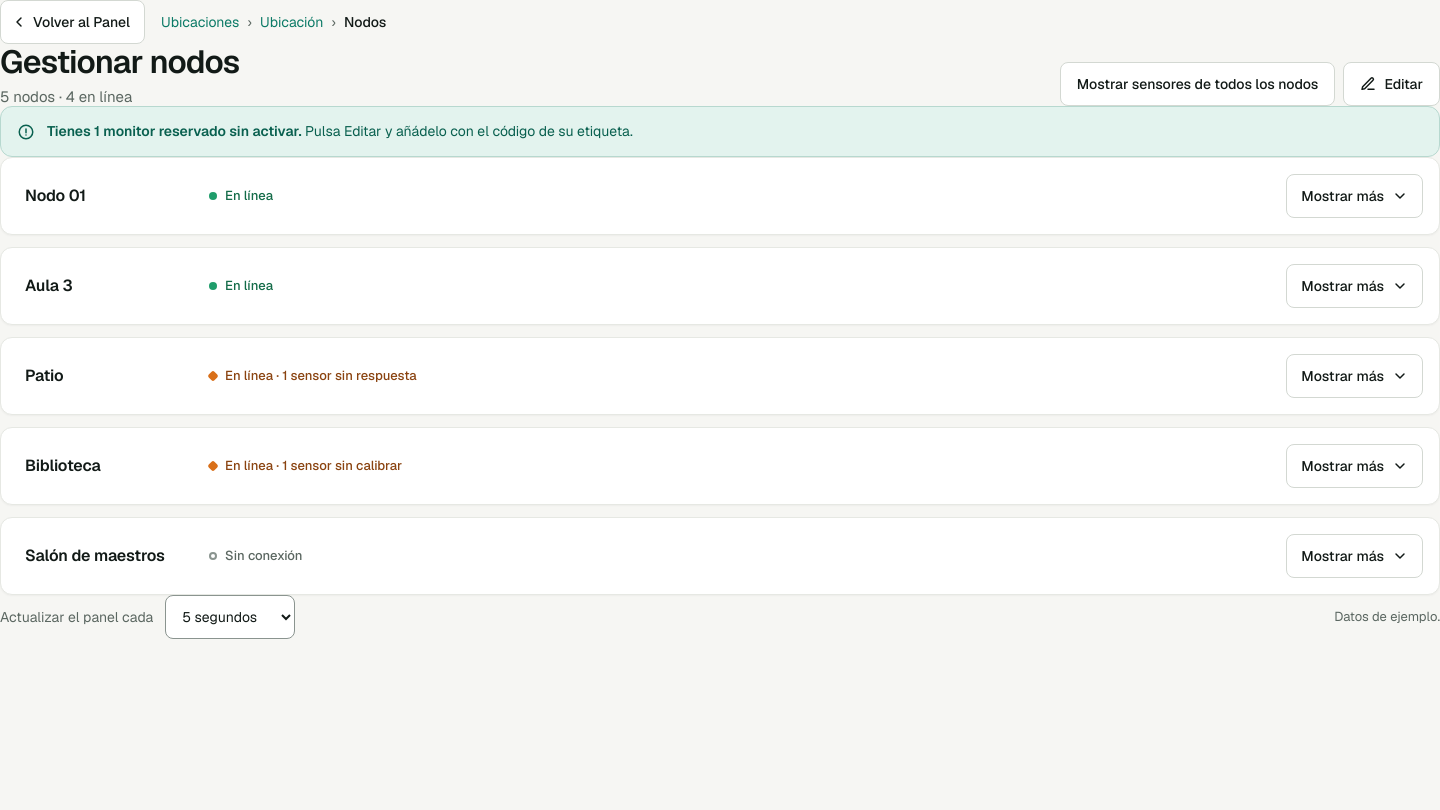
it: Nodos › normaliza el código y el nombre al añadir un nodo
The width and height of the screenshot is (1440, 810).
Expected: the text "Patio" is shown, [25,365,63,386]
Click the button "Editar".
click(1392, 84)  # box [1343,62,1439,106]
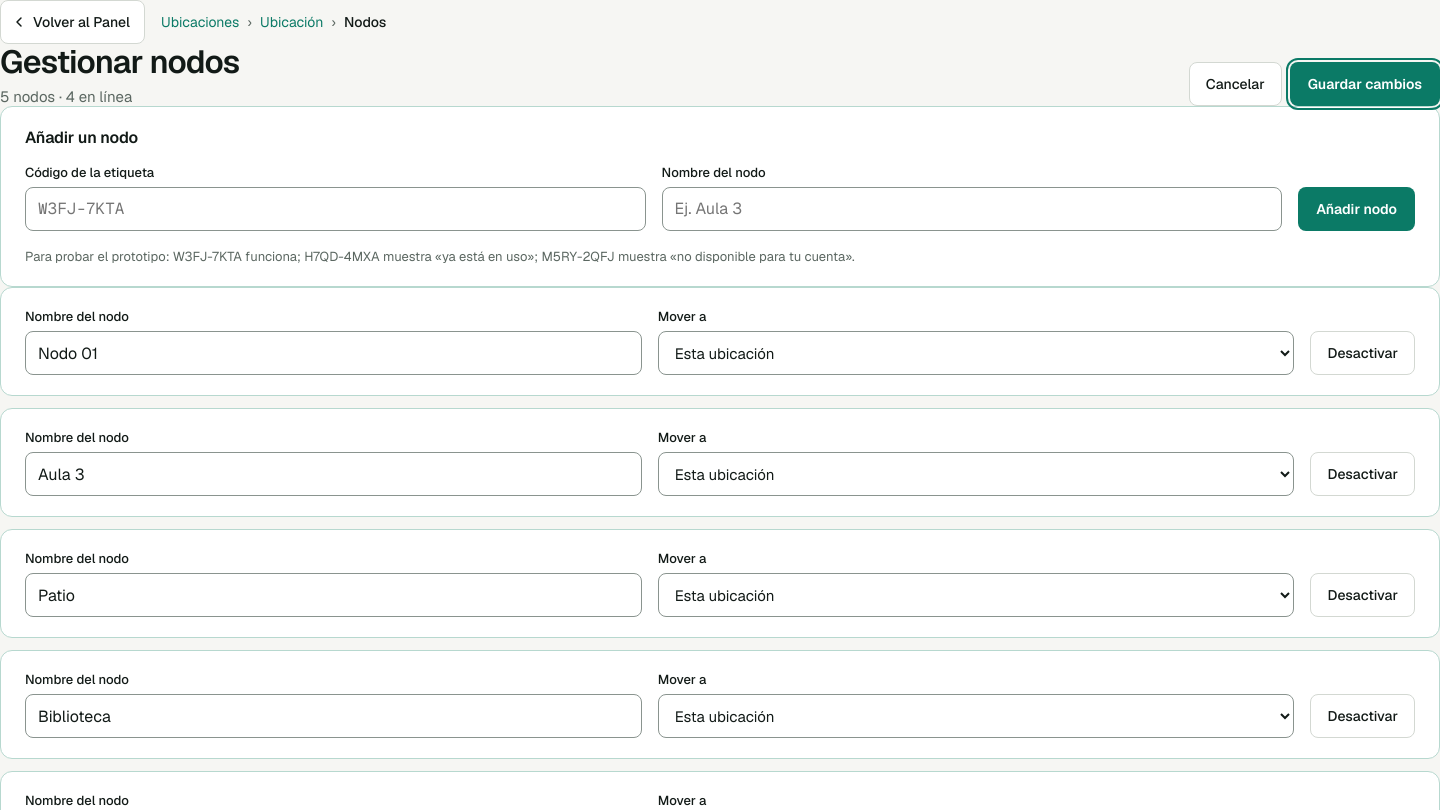
Type " w3fj 7kta " into the field labelled "Código de la etiqueta".
click(335, 209); type(" w3fj 7kta ")  # box [25,187,646,231]
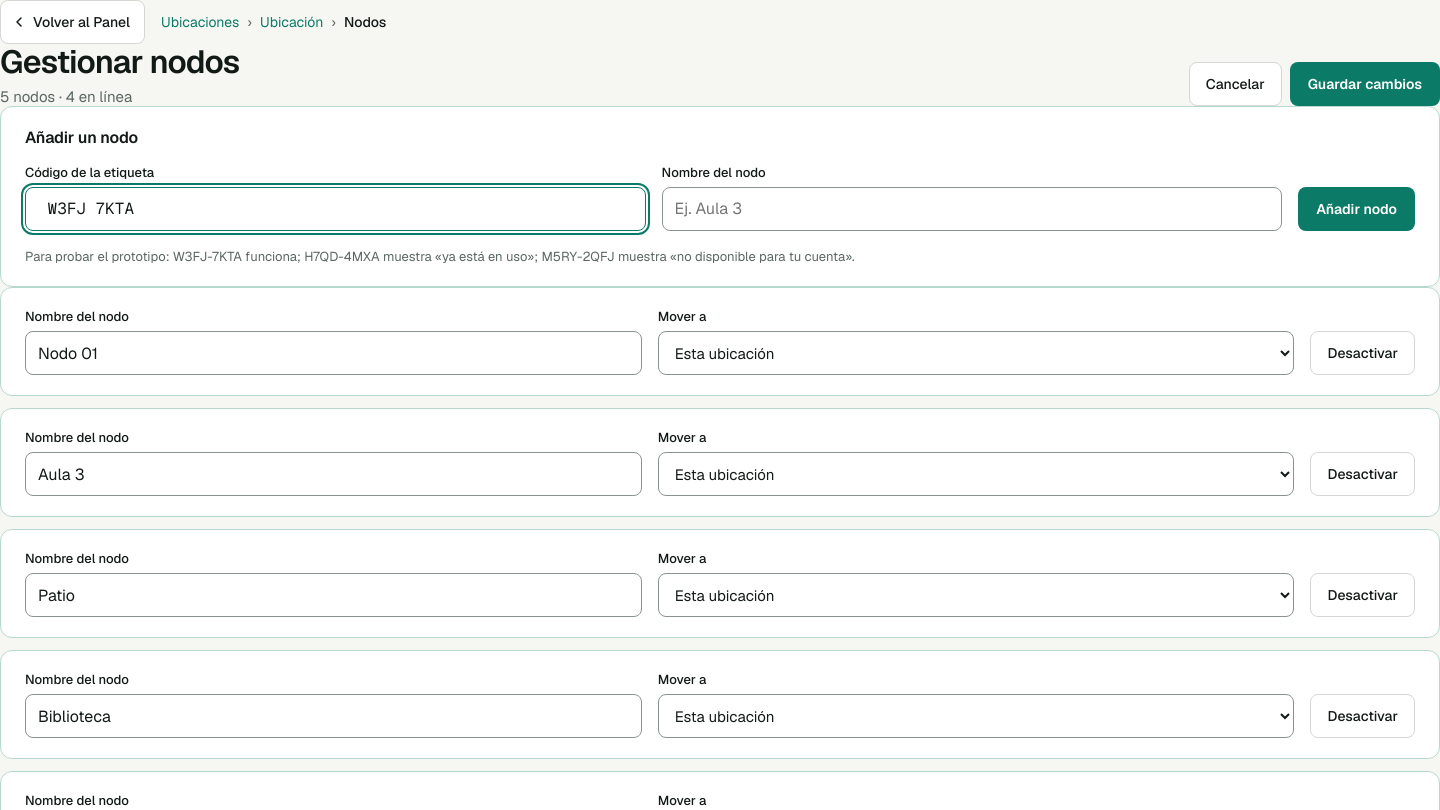
Type "  Laboratorio  " into the 1st field labelled "Nombre del nodo".
click(972, 209); type("  Laboratorio  ")  # box [662,187,1282,231]
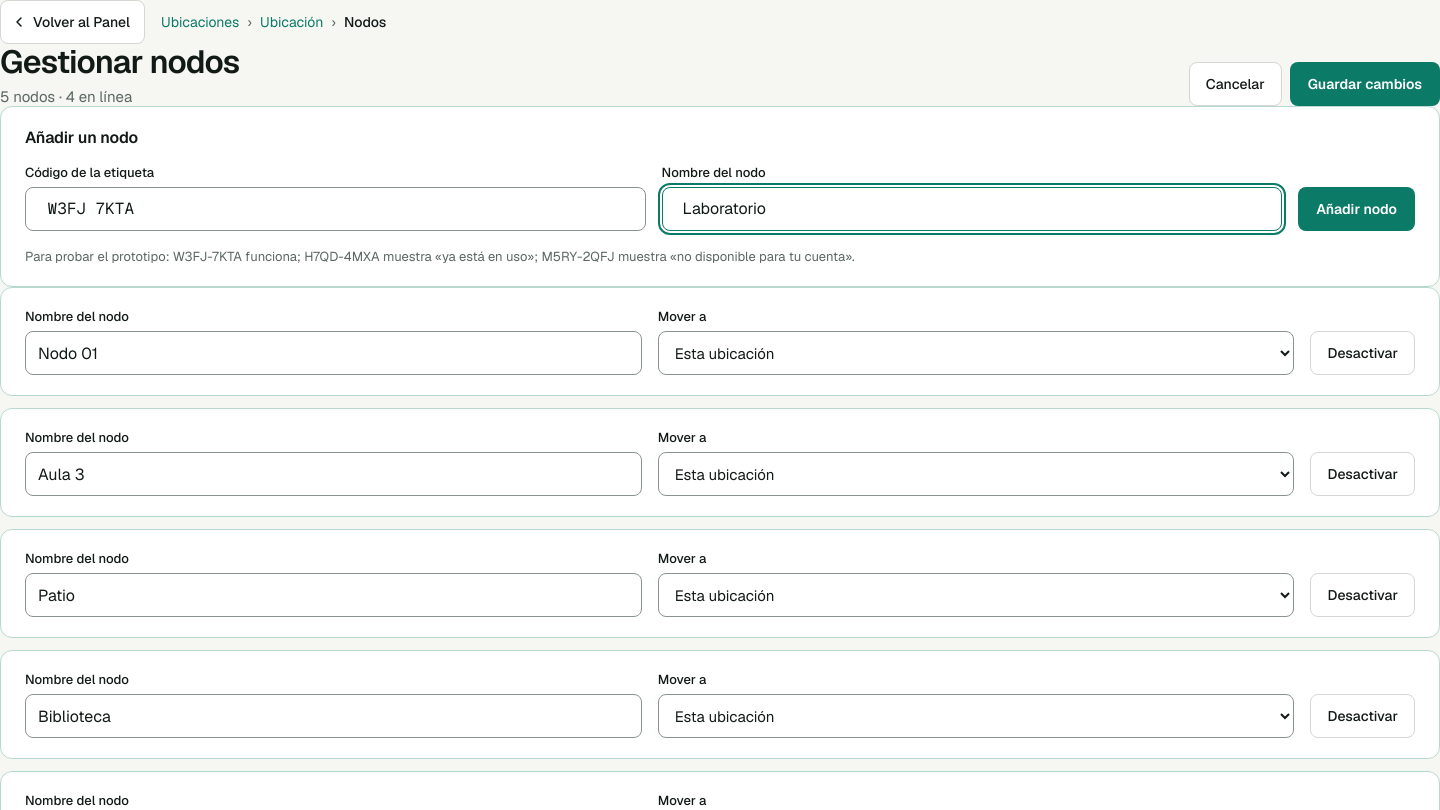
Click the button "Añadir nodo".
click(1357, 209)  # box [1298,187,1415,231]
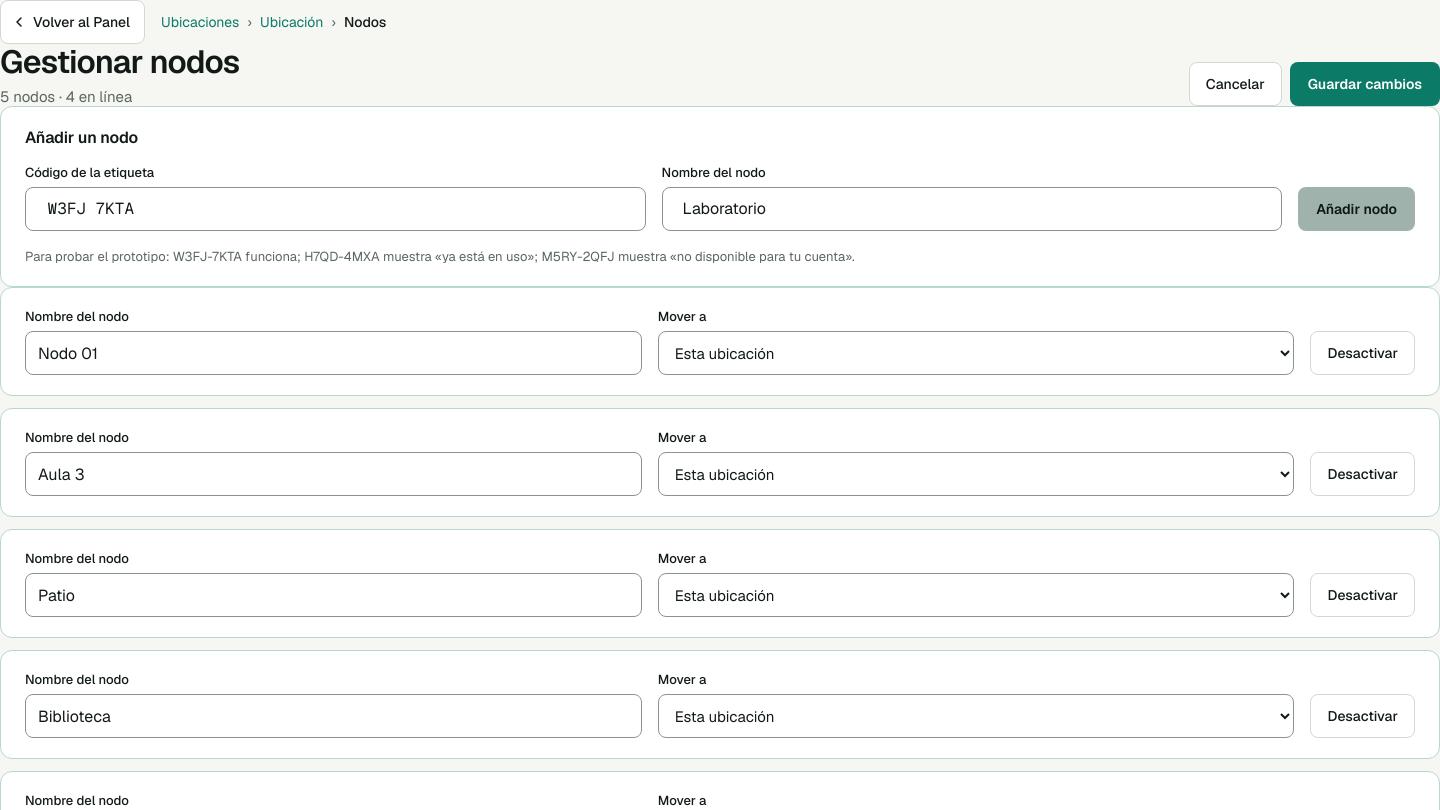
Click the button "Guardar cambios".
click(1365, 84)  # box [1290,62,1439,106]
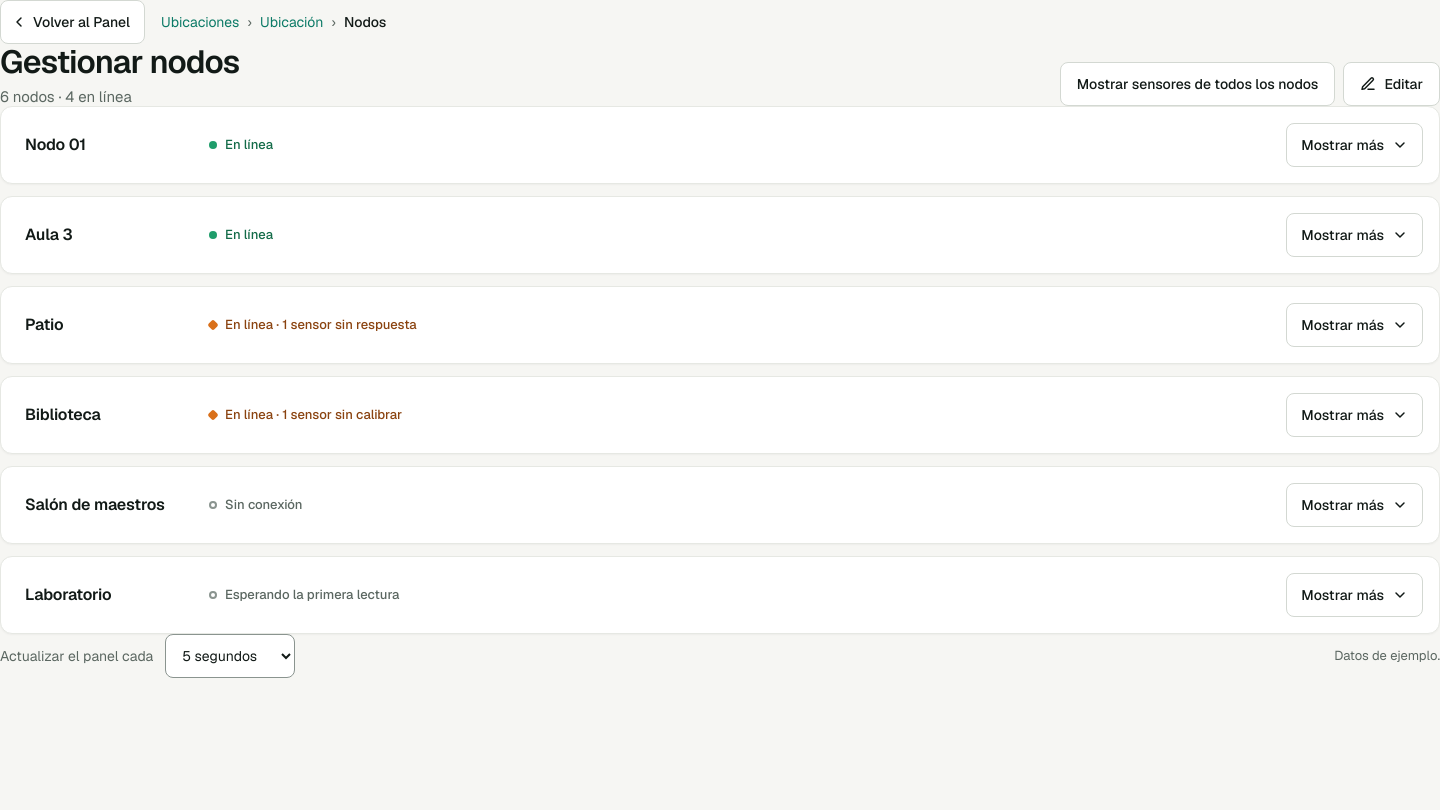
Now the text "Esperando la primera lectura" is shown, box [209,586,399,603]
